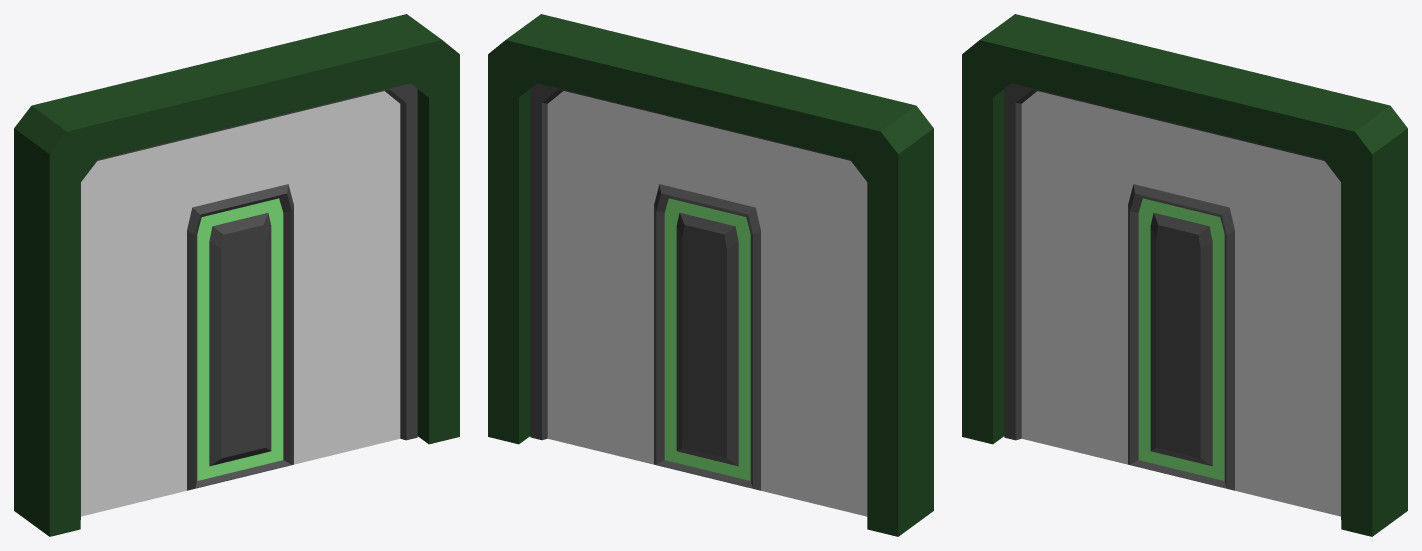
File: Sciences_Door.fbx
The picture shows the model from 3 angles, left to right: view 1: azimuth 30°, elevation 25°; view 2: azimuth 150°, elevation 25°; view 3: azimuth 330°, elevation 25°; orthographic projection.
Parts seen in each view (by area): view 1: Hall_Door, Hall_Door_Frame; view 2: Hall_Door, Hall_Door_Frame; view 3: Hall_Door, Hall_Door_Frame.
Boxes of the visible parts, x1=… form: Hall_Door: x1=80, y1=83, x2=417, y2=519; Hall_Door_Frame: x1=14, y1=14, x2=459, y2=536; Hall_Door: x1=530, y1=83, x2=867, y2=516; Hall_Door_Frame: x1=488, y1=14, x2=933, y2=536; Hall_Door: x1=1004, y1=83, x2=1341, y2=519; Hall_Door_Frame: x1=962, y1=14, x2=1407, y2=536.
Size of the model in its own units: 931 by 873 by 140.
